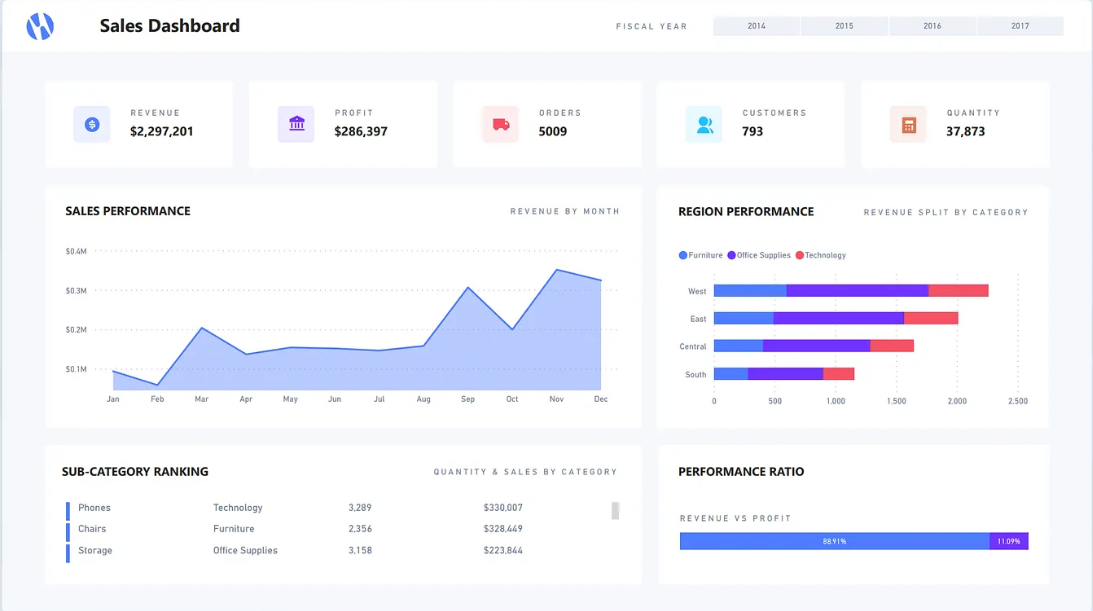

This screenshot's page, from the dashboard's own definition file:
{"tool":"powerbi","page":{"name":"Page 1","canvas":[1280,768],"ordinal":0},"visuals":[{"type":"shape","box":[0,0,1280.2,51.3],"z":0},{"type":"textbox","box":[137.5,0,301.2,50],"z":1000},{"type":"advancedSlicerVisual","fields":{"Values":["Orders.Order Date.Variation.Date Hierarchy.Year"]},"box":[809.4,16.7,455.4,25],"z":2000},{"type":"shape","box":[50,77.4,215.7,117.1],"z":3000},{"type":"shape","box":[1022.9,74.1,215.7,121.4],"z":4000},{"type":"shape","box":[292.9,74.1,215.7,121.4],"z":5000},{"type":"shape","box":[535.7,74.1,217.1,121.4],"z":6000},{"type":"shape","box":[778.6,74.1,217.1,121.4],"z":7000},{"type":"card","title":"      REVENUE","fields":{"Values":["Metrics.Formatted Revenue"]},"box":[121.2,109.1,141.2,53.8],"z":8000},{"type":"card","title":"      PROFIT","fields":{"Values":["Metrics.Formatted Profit"]},"box":[367.5,108,141.2,53.8],"z":9000},{"type":"card","title":"      ORDERS","fields":{"Values":["Metrics.Total Orders"]},"box":[611.2,108,141.2,53.8],"z":10000},{"type":"card","title":"      CUSTOMERS","fields":{"Values":["Metrics.Total Customers"]},"box":[853.8,108,141.2,53.8],"z":11000},{"type":"card","title":"      QUANTITY","fields":{"Values":["Metrics.Formatted Quantity"]},"box":[1097.5,108,141.2,53.8],"z":12000},{"type":"areaChart","title":"SALES PERFORMANCE","fields":{"Y":["Sum(Orders.Sales)"],"Category":["Orders.Order Date.Variation.Date Hierarchy.Month"]},"box":[50,226.1,702.9,338.6],"z":13000},{"type":"barChart","title":"REGION PERFORMANCE","fields":{"Category":["Orders.Region"],"Y":["Sum(Orders.Sales)"],"Series":["Orders.Category"]},"box":[778.6,226.1,460,338.6],"z":14000},{"type":"tableEx","title":"SUB-CATEGORY RANKING","fields":{"Values":["Orders.Styled SubCategory","Orders.Sub-Category","Orders.Category","Metrics.Formatted Quantity","Metrics.Formatted Revenue"]},"box":[50,587.1,702.9,161.4],"z":15000},{"type":"hundredPercentStackedBarChart","title":"PERFORMANCE RATIO","fields":{"Y":["Metrics.Revenue vs Profit %"],"Series":["RevenueProfitMetric.Metric"]},"box":[779,587,460,161],"z":16000},{"type":"textbox","box":[610,225.7,141.4,34.3],"z":17000},{"type":"textbox","box":[1037.1,225.7,201.4,34.3],"z":18000},{"type":"textbox","box":[778.6,622.9,145.7,34.3],"z":19000},{"type":"textbox","box":[508.6,587.1,244.3,35.7],"z":20000},{"type":"shape","box":[61.1,106.9,60.2,62.8],"z":21000},{"type":"shape","box":[307.1,106.9,60.2,62.8],"z":22000},{"type":"shape","box":[551.3,106.9,60.2,62.8],"z":23000},{"type":"shape","box":[791.2,106.9,60.2,62.8],"z":24000},{"type":"shape","box":[1030.1,106.9,60.2,62.8],"z":25000},{"type":"image","box":[65,111.2,51.2,51.2],"z":26000},{"type":"image","box":[550,113.8,60,50],"z":27000},{"type":"image","box":[313.8,115,47.5,47.5],"z":28000},{"type":"image","box":[801.2,120,38.8,37.5],"z":29000},{"type":"image","box":[1040,116.2,38.8,46.2],"z":30000},{"type":"image","box":[6.2,0,43.8,51.2],"z":31000},{"type":"textbox","box":[37.5,28.8,300,35],"z":32000},{"type":"textbox","box":[682,14.2,127.4,29.6],"z":32001}]}

Visuals, with their boxes on the page's 1280x768 design canvas (x1, y1, x2, y2). These are canvas units, not pixel positions in the 1093x611 screenshot, which may show the page scaled, cropped or inside an application window:
shape: detection(0, 0, 1280, 51)
textbox: detection(138, 0, 439, 50)
advancedSlicerVisual - Orders.Order Date.Variation.Date Hierarchy.Year: detection(809, 17, 1265, 42)
shape: detection(50, 77, 266, 194)
shape: detection(1023, 74, 1239, 196)
shape: detection(293, 74, 509, 196)
shape: detection(536, 74, 753, 196)
shape: detection(779, 74, 996, 196)
"      REVENUE" card: detection(121, 109, 262, 163)
"      PROFIT" card: detection(368, 108, 509, 162)
"      ORDERS" card: detection(611, 108, 752, 162)
"      CUSTOMERS" card: detection(854, 108, 995, 162)
"      QUANTITY" card: detection(1098, 108, 1239, 162)
"SALES PERFORMANCE" areaChart: detection(50, 226, 753, 565)
"REGION PERFORMANCE" barChart: detection(779, 226, 1239, 565)
"SUB-CATEGORY RANKING" tableEx: detection(50, 587, 753, 748)
"PERFORMANCE RATIO" hundredPercentStackedBarChart: detection(779, 587, 1239, 748)
textbox: detection(610, 226, 751, 260)
textbox: detection(1037, 226, 1238, 260)
textbox: detection(779, 623, 924, 657)
textbox: detection(509, 587, 753, 623)
shape: detection(61, 107, 121, 170)
shape: detection(307, 107, 367, 170)
shape: detection(551, 107, 612, 170)
shape: detection(791, 107, 851, 170)
shape: detection(1030, 107, 1090, 170)
image: detection(65, 111, 116, 162)
image: detection(550, 114, 610, 164)
image: detection(314, 115, 361, 162)
image: detection(801, 120, 840, 158)
image: detection(1040, 116, 1079, 162)
image: detection(6, 0, 50, 51)
textbox: detection(38, 29, 338, 64)
textbox: detection(682, 14, 809, 44)
